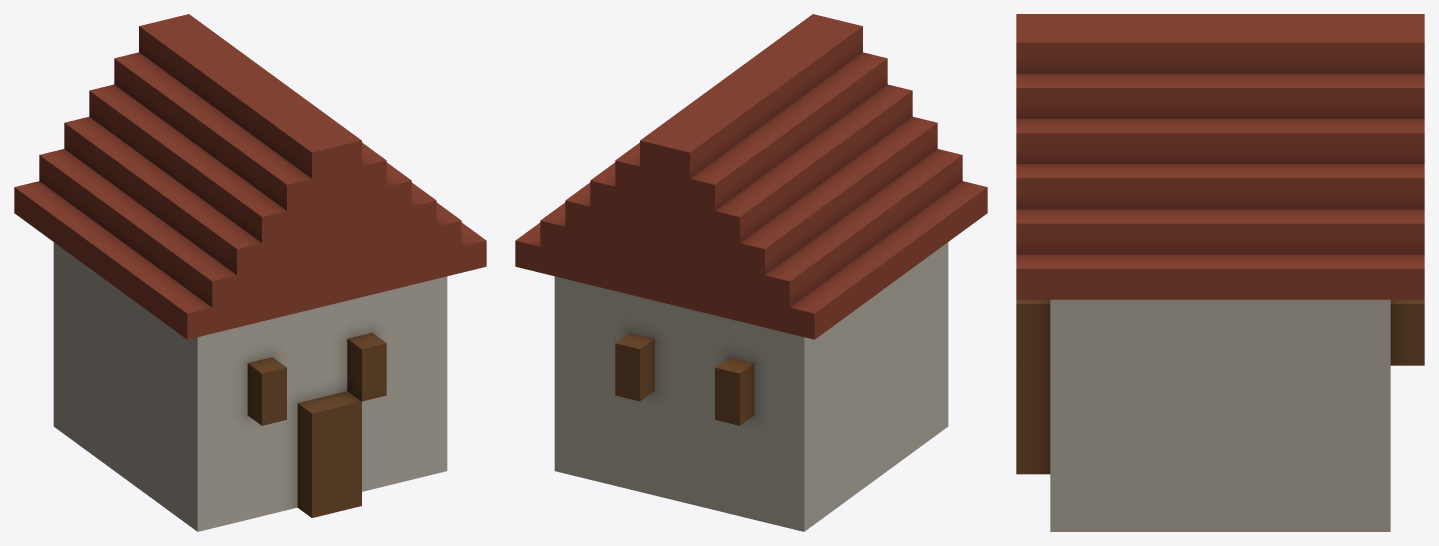
The model's file is c_stone.glb.
3 renders of one model, left to right at view 1: azimuth 30°, elevation 25°; view 2: azimuth 150°, elevation 25°; view 3: azimuth 270°, elevation 25°, orthographic. The views are drawn at different scales.
Visible parts, largest first — view 1: c_stone_body; view 2: c_stone_body; view 3: c_stone_body.
Part boxes in pixels (x1,y1,x2,y2): c_stone_body: [14, 14, 486, 531]; c_stone_body: [515, 14, 987, 531]; c_stone_body: [1016, 14, 1424, 531].
Bounding box in the file's own units: 0.75 × 0.875 × 0.75.
1 material, 1 textured.
